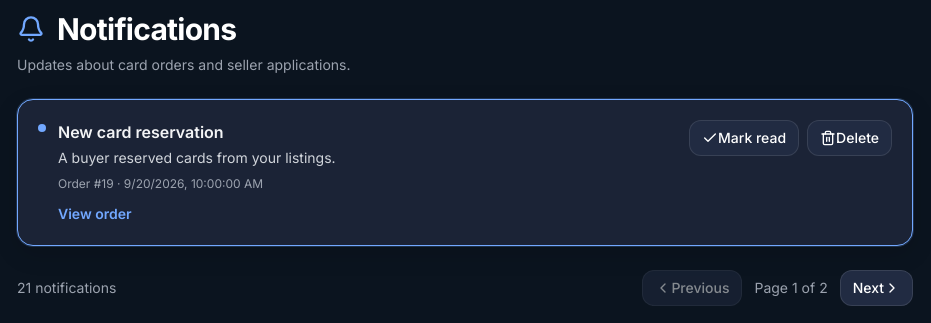
Test case: NotificationsPage › paginates through the backend result
Expected: the heading "New card reservation" is shown, x1=58 y1=122 x2=224 y2=142
Click the button "Next".
click(876, 288)  # box x1=840 y1=270 x2=913 y2=306
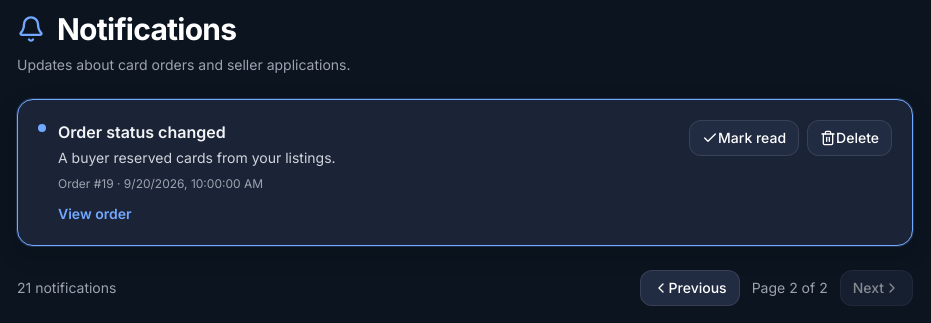
Expected: the heading "Order status changed" is shown, x1=58 y1=122 x2=226 y2=142
